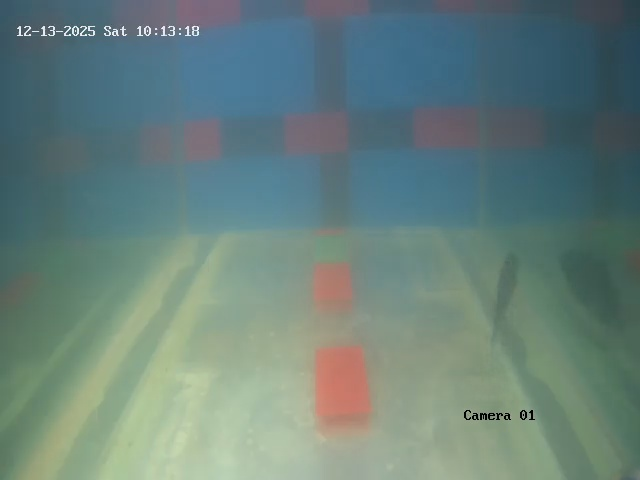fish: (487, 251, 522, 366)
